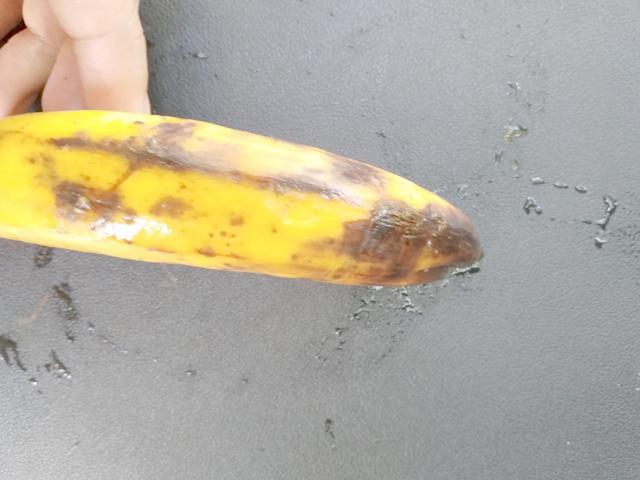rotten: (0, 94, 502, 291)
